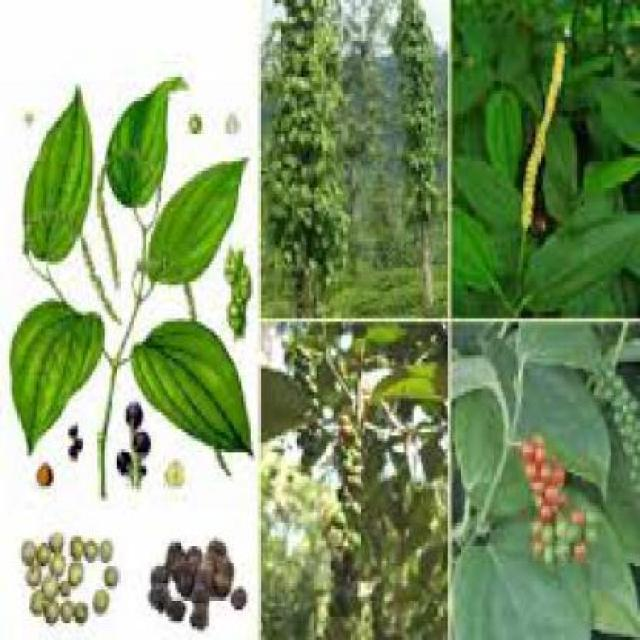RIPE: (515, 426, 610, 586)
